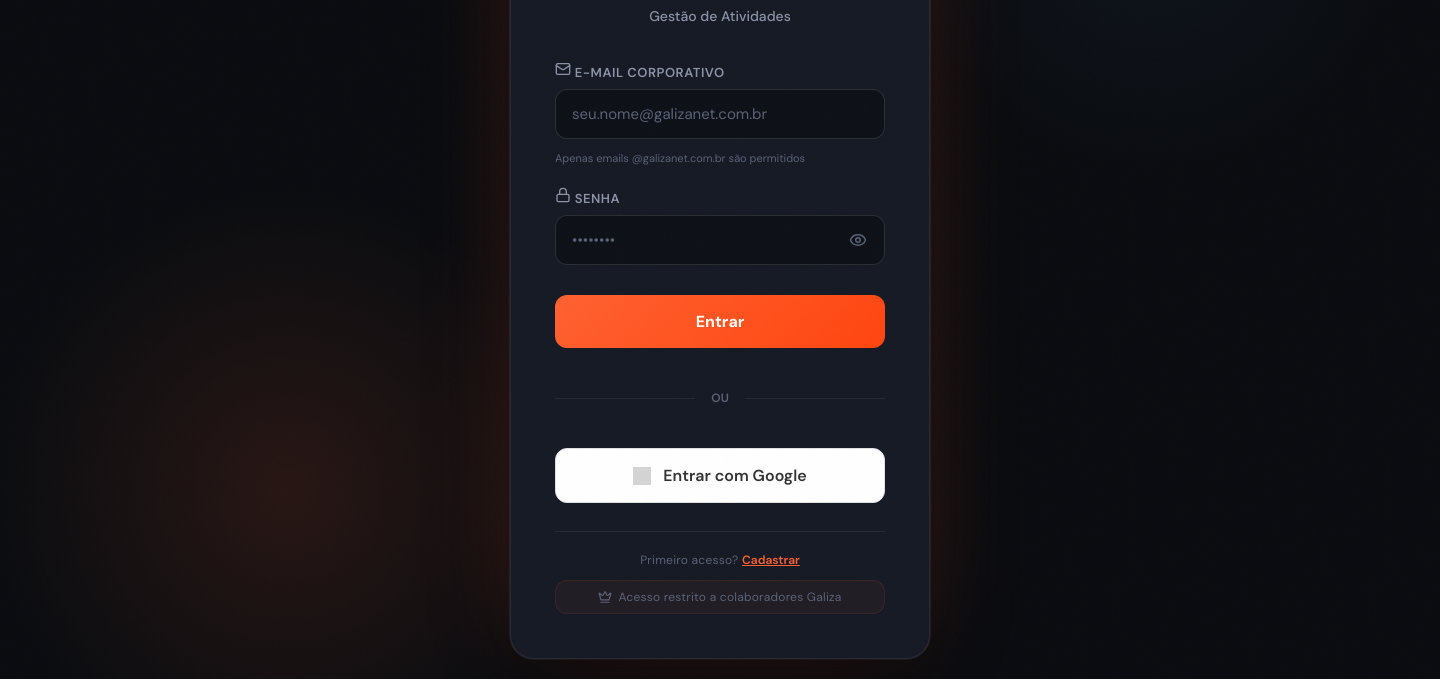
Scenario: Login Page › deve mostrar modo de primeiro acesso quando clicar em Cadastrar
The width and height of the screenshot is (1440, 679).
(page scrolled)
Click the button "Cadastrar" at (771, 560), box [742,552,800,568]
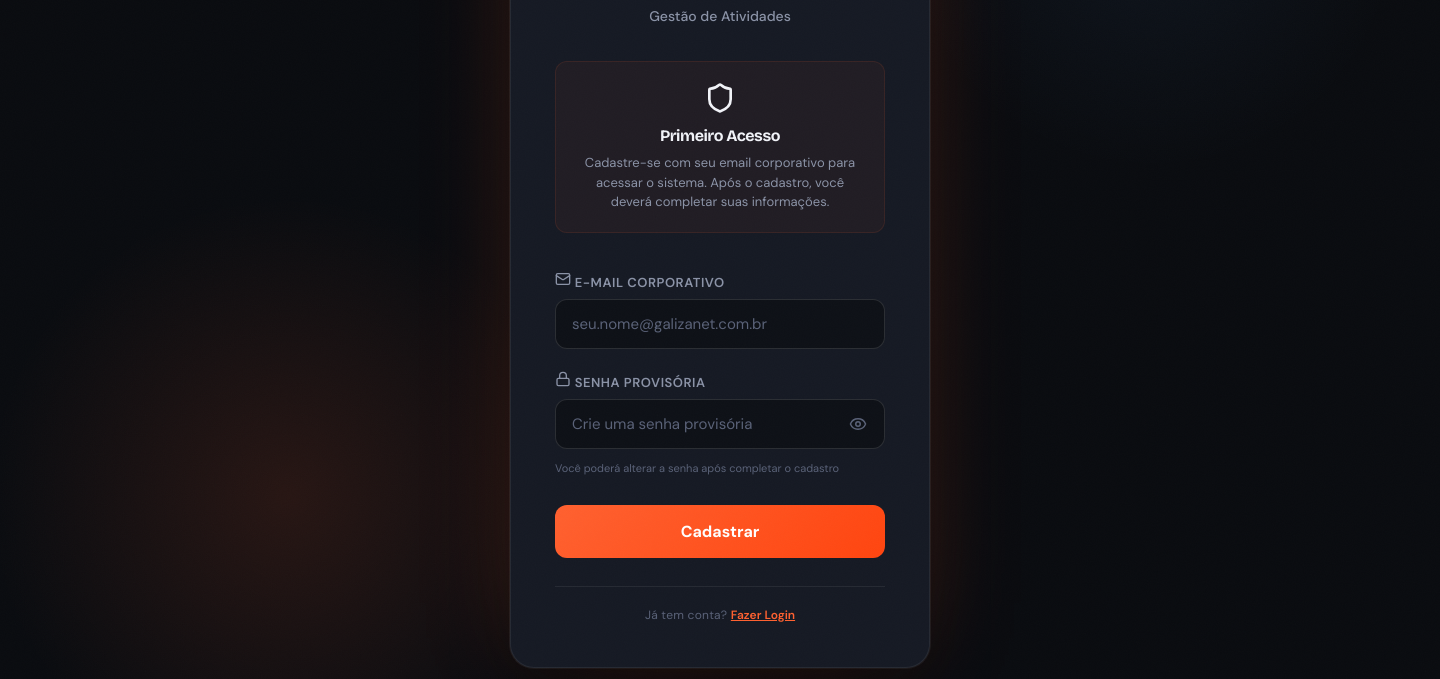
Check: the heading "Primeiro Acesso" is shown, box [660,126,780,145]
Check: the password field labelled "Senha Provisória" is shown, box [555,398,885,448]
Check: the button "Cadastrar" is shown, box [555,504,885,558]
